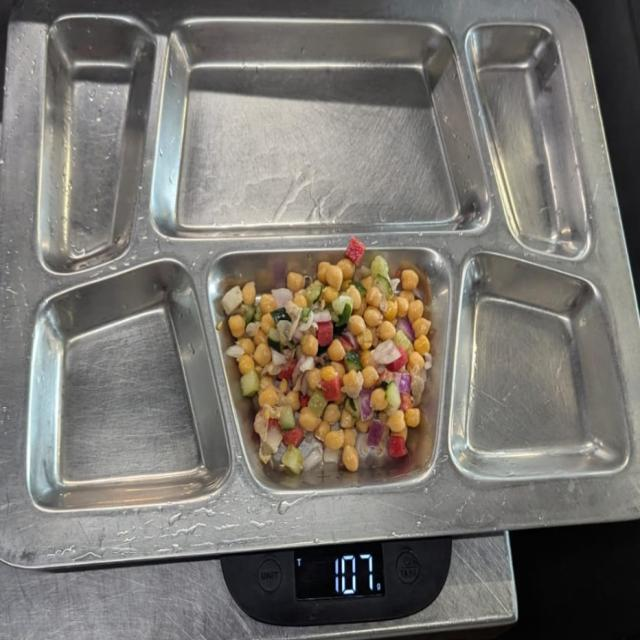Salad: (220, 238, 436, 476)
